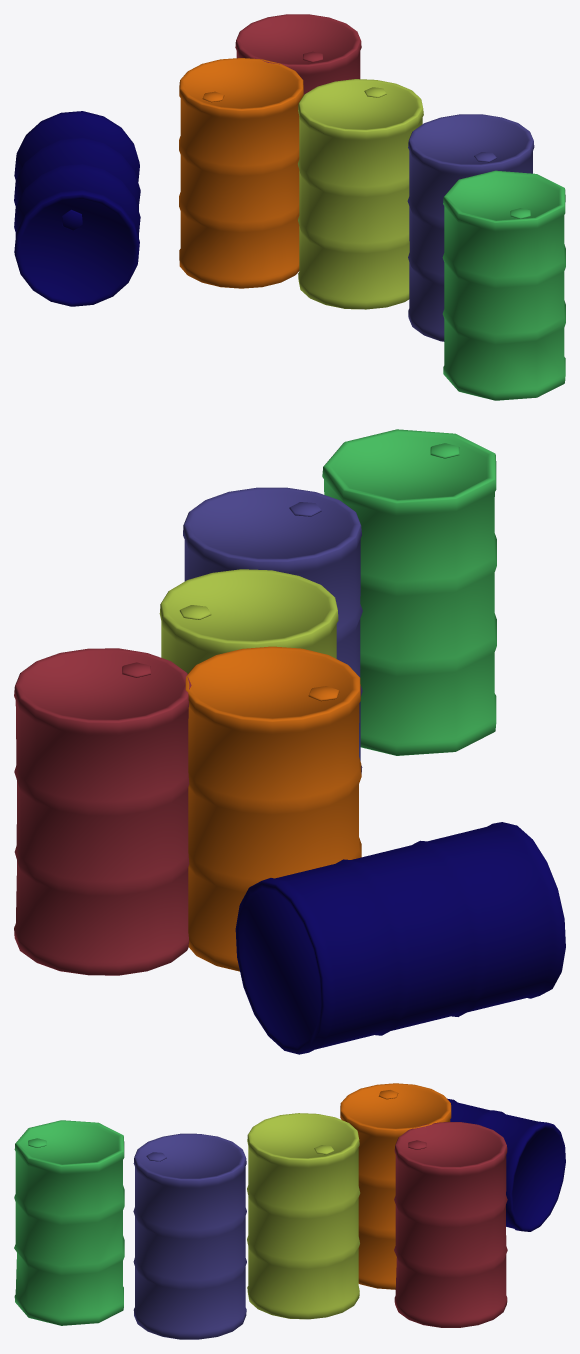
Rendered from Barrel_multi2_low.fbx.
3 renders of one model, top to bottom at view 1: azimuth 30°, elevation 25°; view 2: azimuth 150°, elevation 25°; view 3: azimuth 270°, elevation 25°, orthographic. The views are drawn at different scales.
Parts seen in each view (by area): view 1: Barrel_low002, Barrel_low, Barrel_low001, Barrel_low004, Barrel_low005, Barrel_low003; view 2: Barrel_low004, Barrel_low003, Barrel_low, Barrel_low002, Barrel_low005, Barrel_low001; view 3: Barrel_low003, Barrel_low001, Barrel_low005, Barrel_low, Barrel_low002, Barrel_low004.
Boxes of the visible parts, x1=… form: Barrel_low002: x1=179, y1=58, x2=303, y2=288; Barrel_low: x1=442, y1=170, x2=565, y2=400; Barrel_low001: x1=298, y1=79, x2=423, y2=309; Barrel_low004: x1=14, y1=111, x2=140, y2=306; Barrel_low005: x1=407, y1=114, x2=534, y2=341; Barrel_low003: x1=235, y1=14, x2=361, y2=94; Barrel_low004: x1=235, y1=822, x2=565, y2=1054; Barrel_low003: x1=14, y1=648, x2=191, y2=975; Barrel_low: x1=322, y1=429, x2=496, y2=755; Barrel_low002: x1=185, y1=646, x2=361, y2=971; Barrel_low005: x1=183, y1=487, x2=362, y2=773; Barrel_low001: x1=159, y1=569, x2=338, y2=673; Barrel_low003: x1=394, y1=1122, x2=507, y2=1327; Barrel_low001: x1=247, y1=1113, x2=360, y2=1319; Barrel_low005: x1=133, y1=1133, x2=246, y2=1339; Barrel_low: x1=14, y1=1120, x2=124, y2=1325; Barrel_low002: x1=340, y1=1083, x2=451, y2=1289; Barrel_low004: x1=447, y1=1098, x2=565, y2=1231.
Bounding box in the file's own units: 141 × 62.77 × 196.
